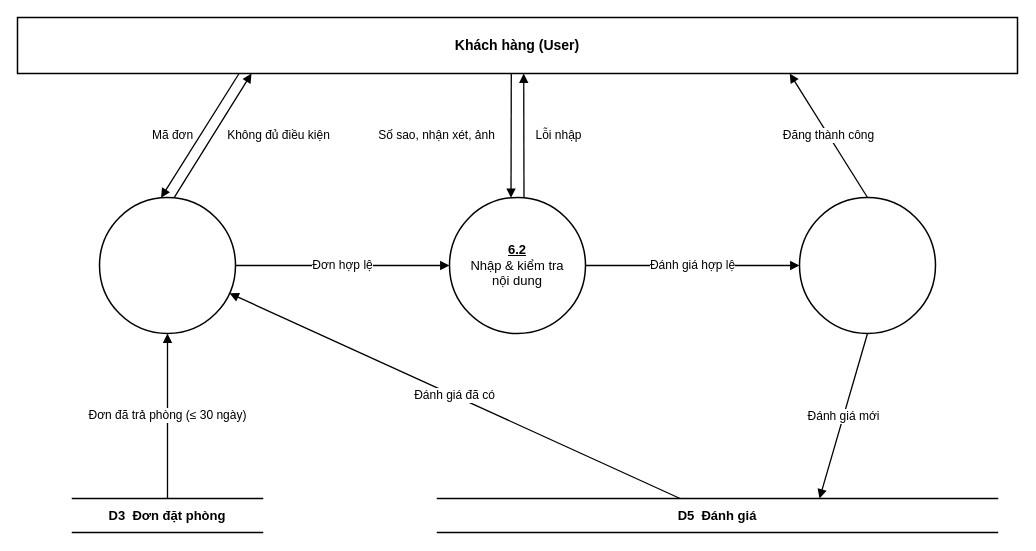
The diagram is 1036 pixels wide and 551 high, and some of its shapes have lost their labels. The shapes that lost their labels are listed below. From the top down, each one's box as (x1, y1, x2, y2) in pixels, then its label:
(98, 196, 236, 334): 6.1 Kiểm tra điều kiện đánh giá
(798, 196, 936, 334): 6.3 Lưu đánh giá
